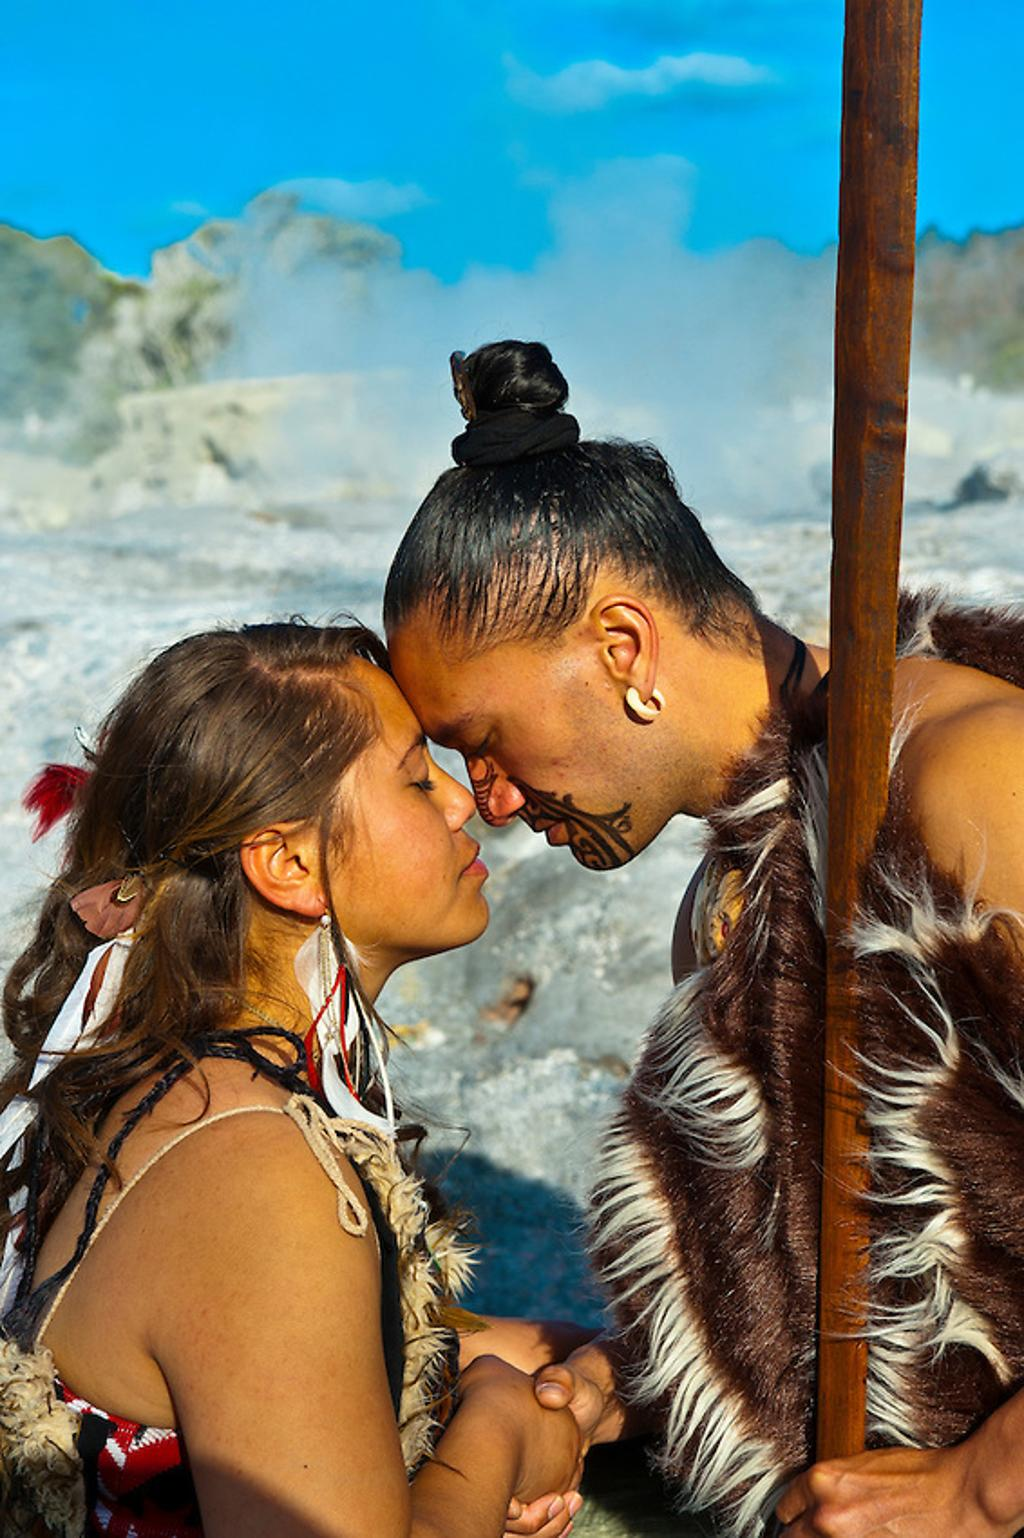face: (390, 601, 657, 871), (312, 652, 486, 937)
